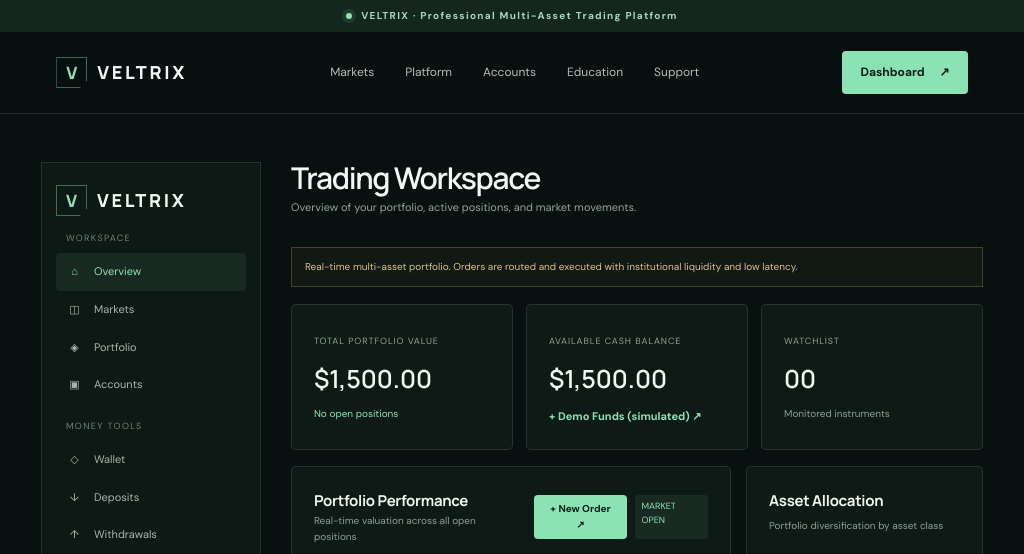
demo funding entry points › shows the demo surfaces only when explicitly enabled
Check: the button "↓ Deposits" is shown, box x1=56 y1=479 x2=246 y2=516
Click the button "+ Demo Funds (simulated) ↗" at (625, 417), box x1=549 y1=408 x2=702 y2=426
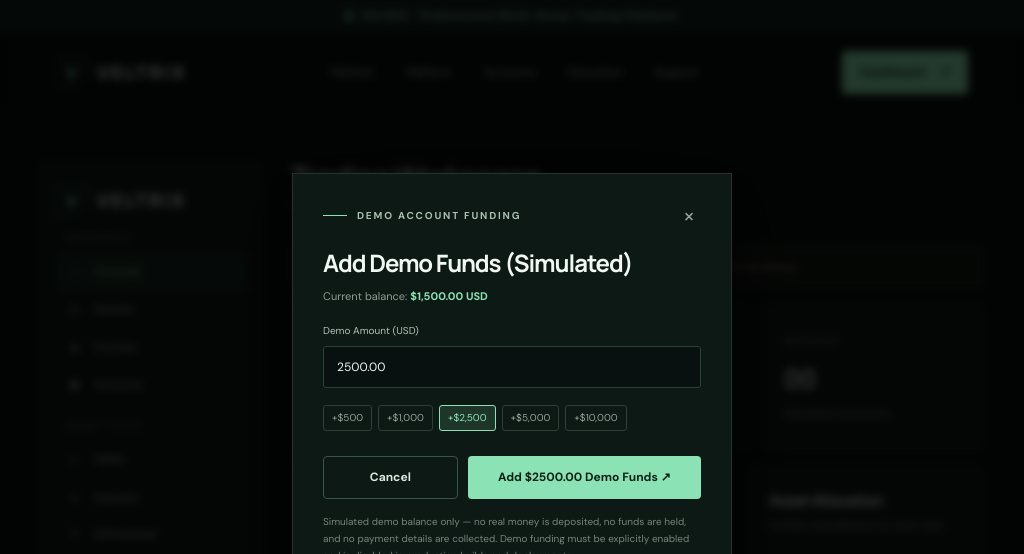
Check: the text "Add Demo Funds (Simulated)" is shown, box x1=323 y1=246 x2=632 y2=279
